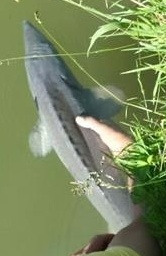Acipenseridae: (20, 20, 146, 236)
